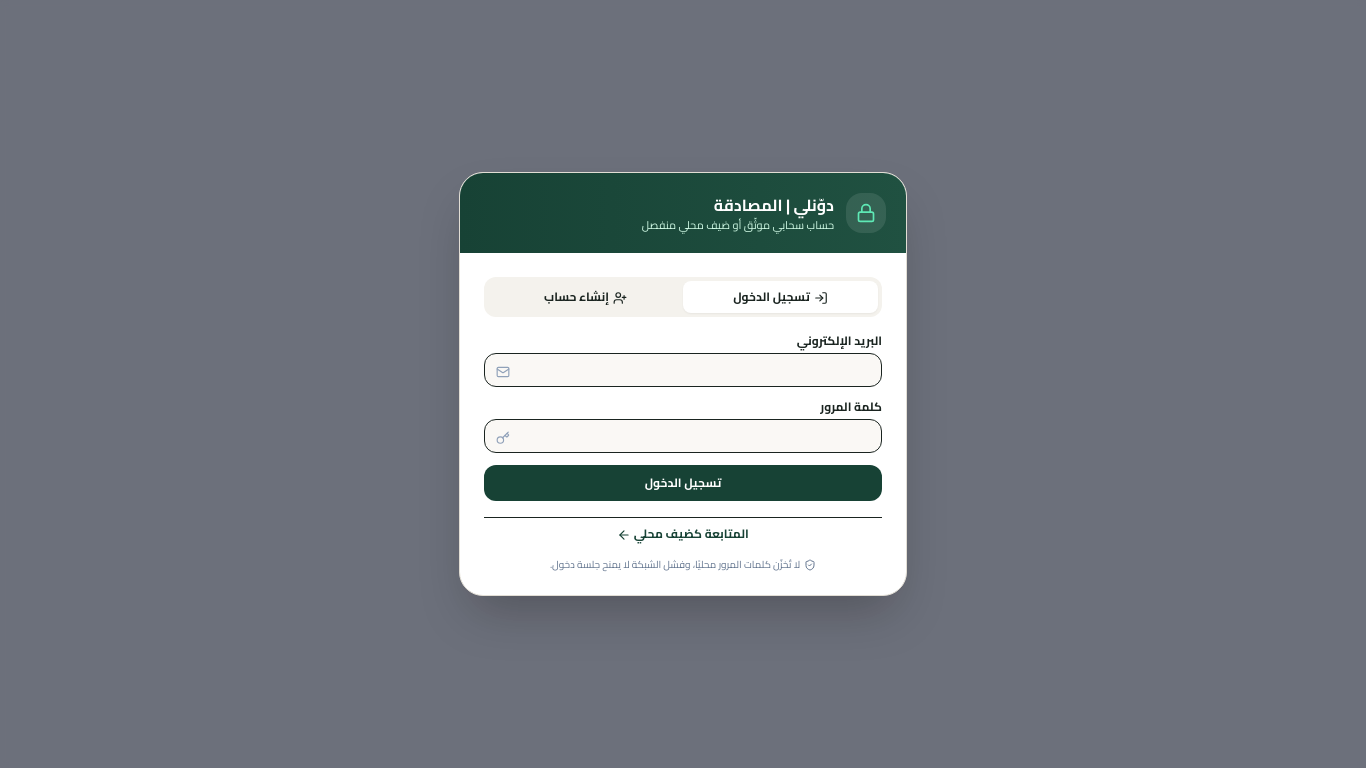
AuthModal › shows a clear Arabic message when the network request fails
The width and height of the screenshot is (1366, 768).
Click the button "إنشاء حساب": {"x": 586, "y": 297} [488,281,683,313]
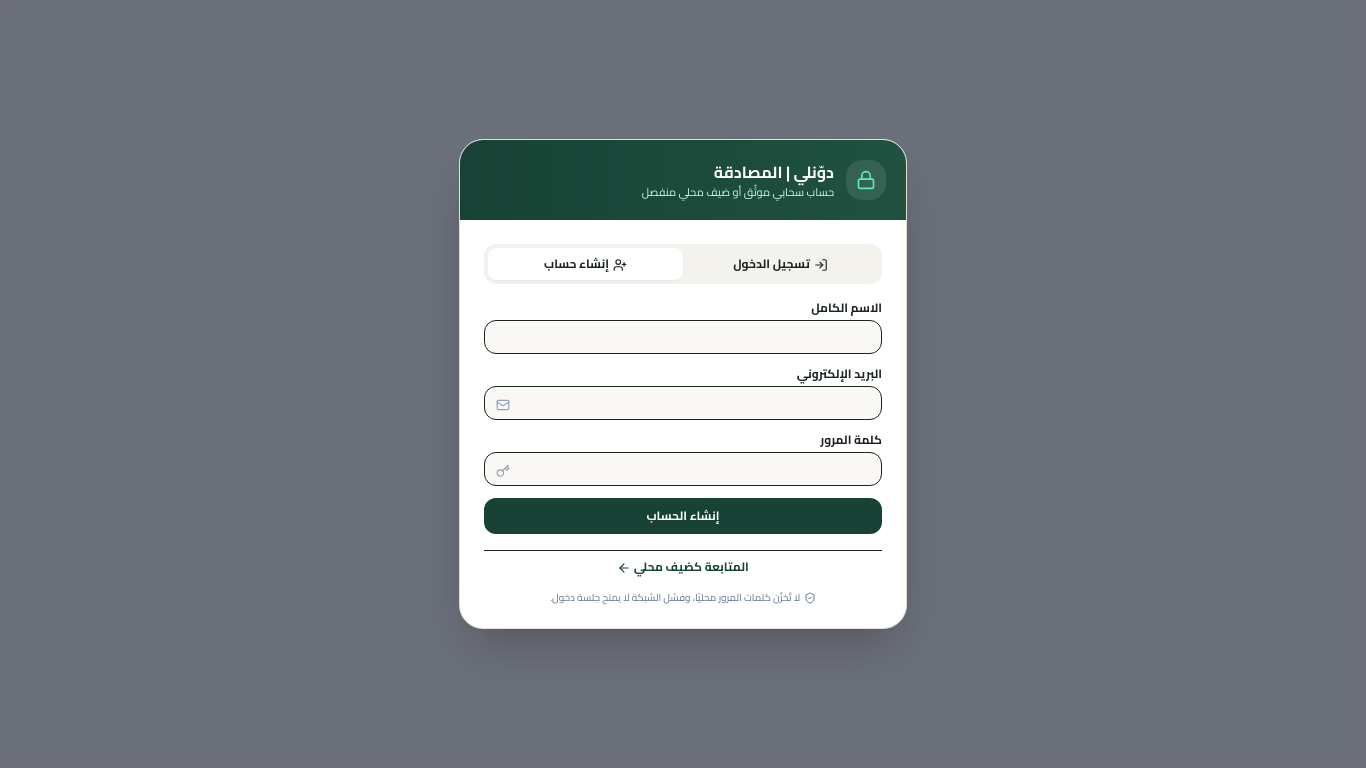
In the field labelled "الاسم الكامل": {"x": 683, "y": 337} [484,320,882,354], type "مستخدم اختبار"
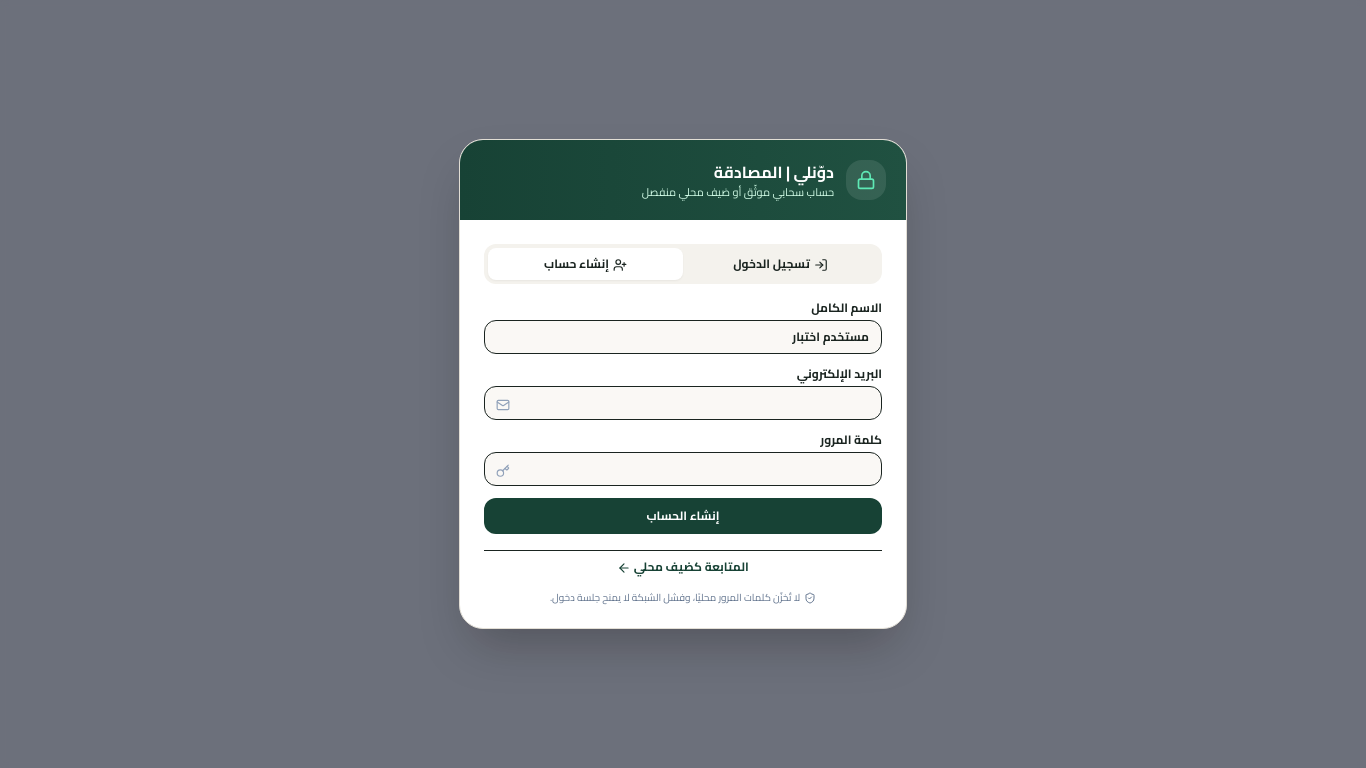
In the field labelled "البريد الإلكتروني": {"x": 683, "y": 403} [484,386,882,420], type "user@gmail.com"
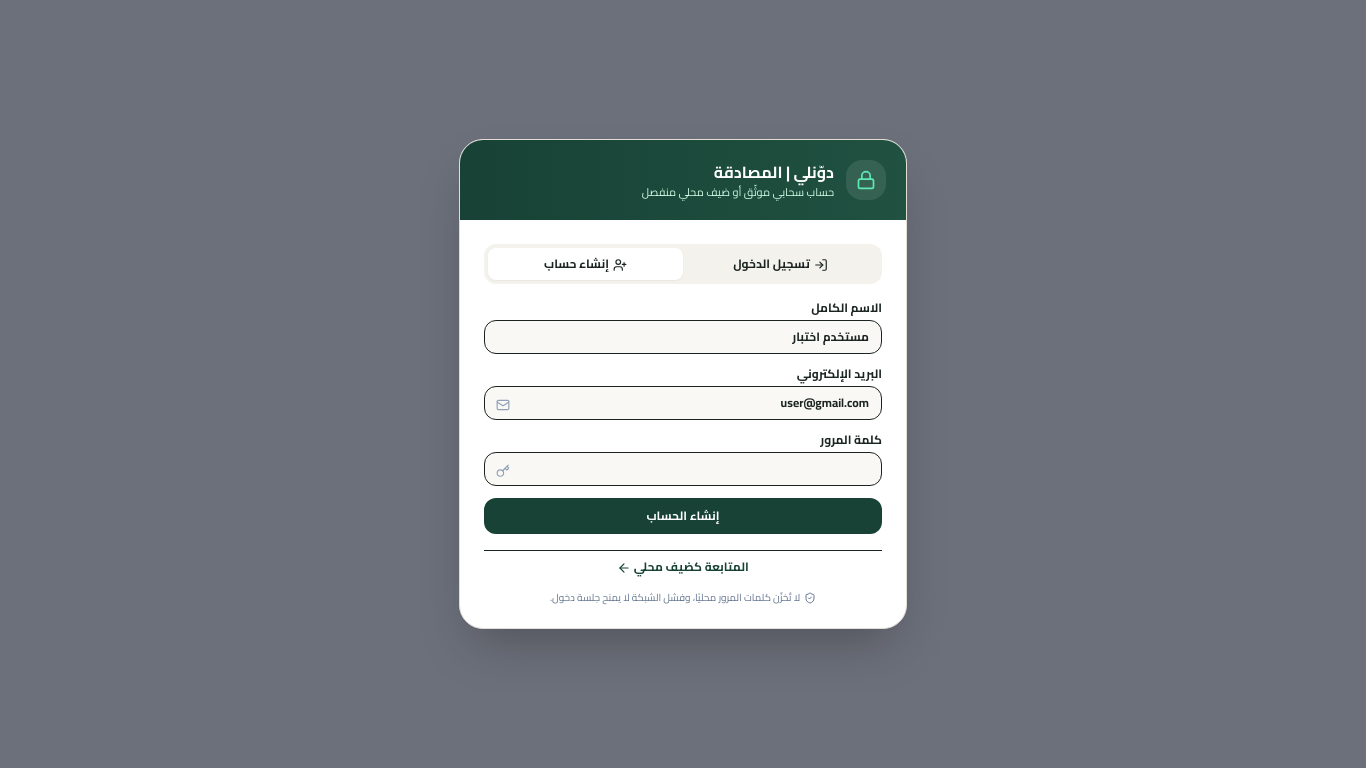
In the password field labelled "كلمة المرور": {"x": 683, "y": 469} [484,452,882,486], type "StrongPass2026!"
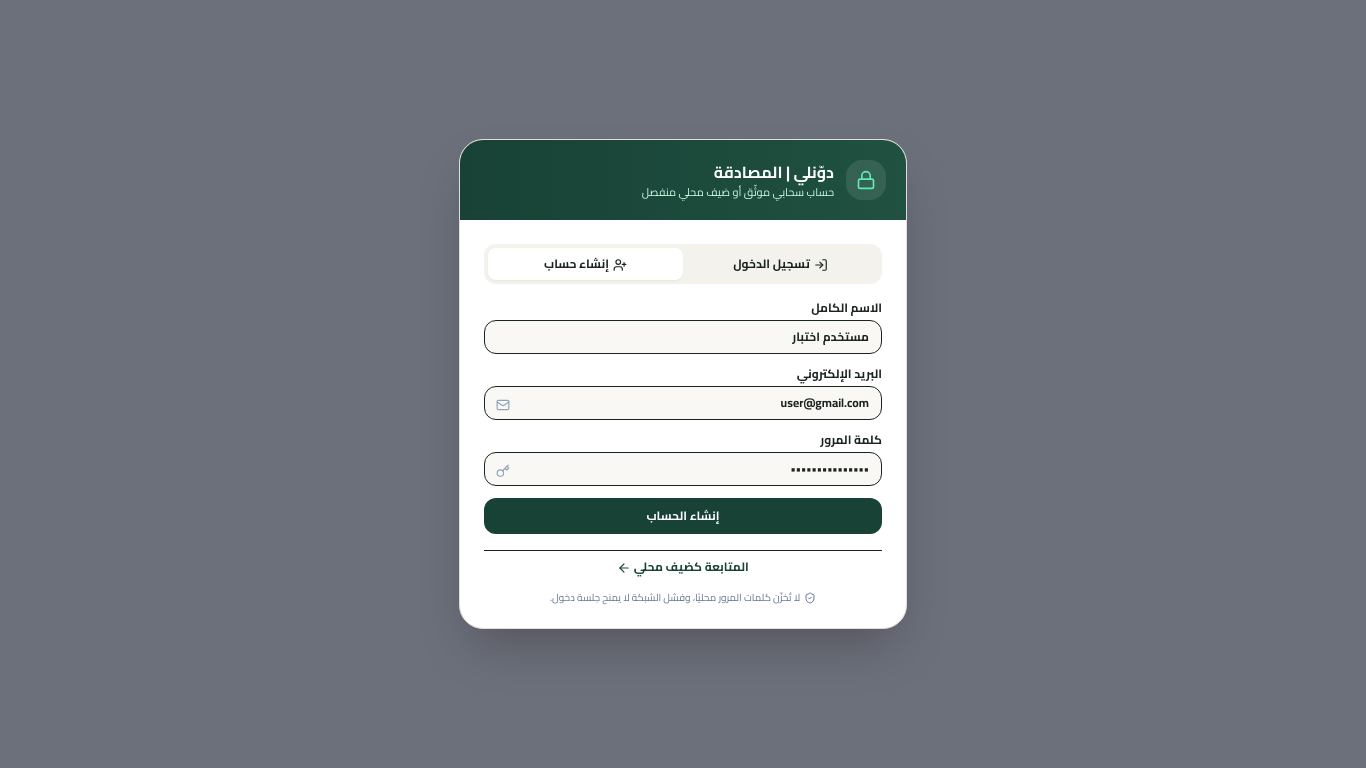
Click the button "إنشاء الحساب": {"x": 683, "y": 516} [484,498,882,534]
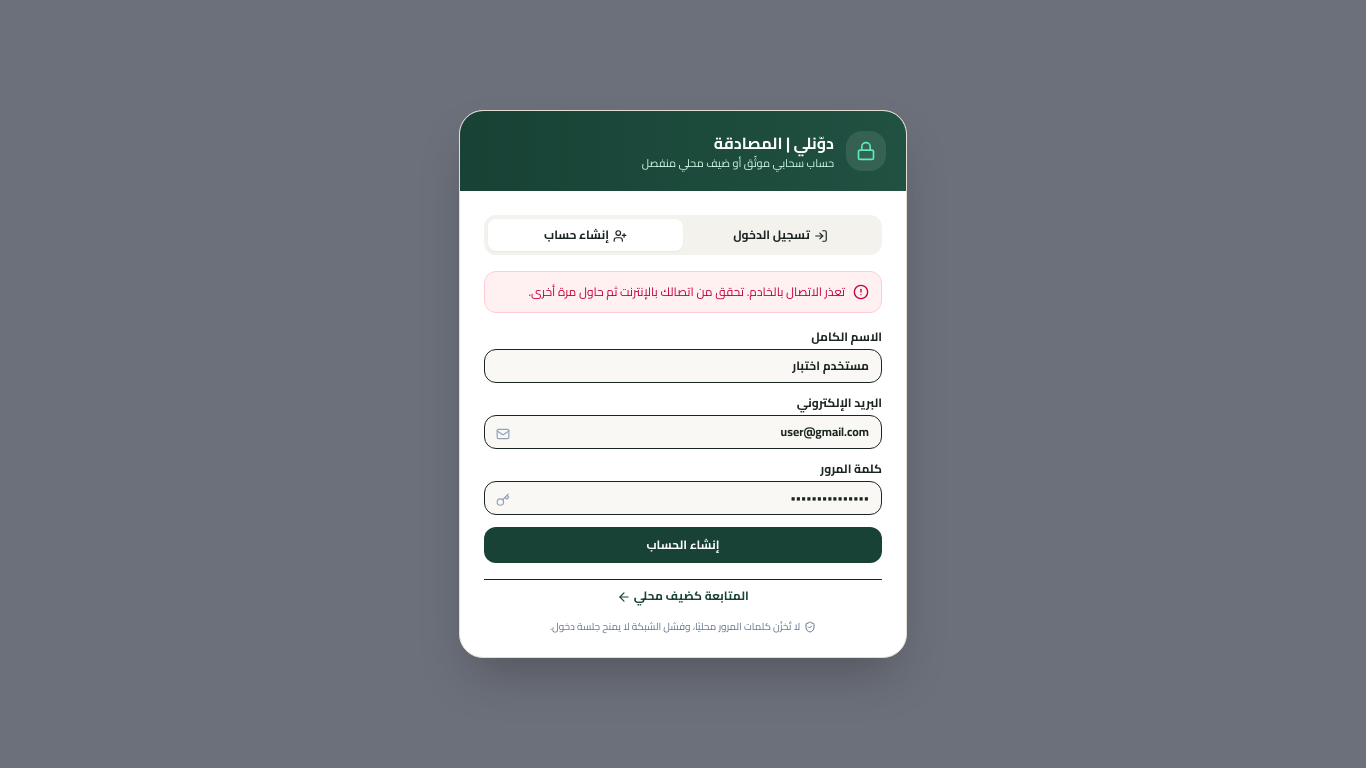
Check: the message shows "تعذر الاتصال بالخادم", box [528,280,845,303]
